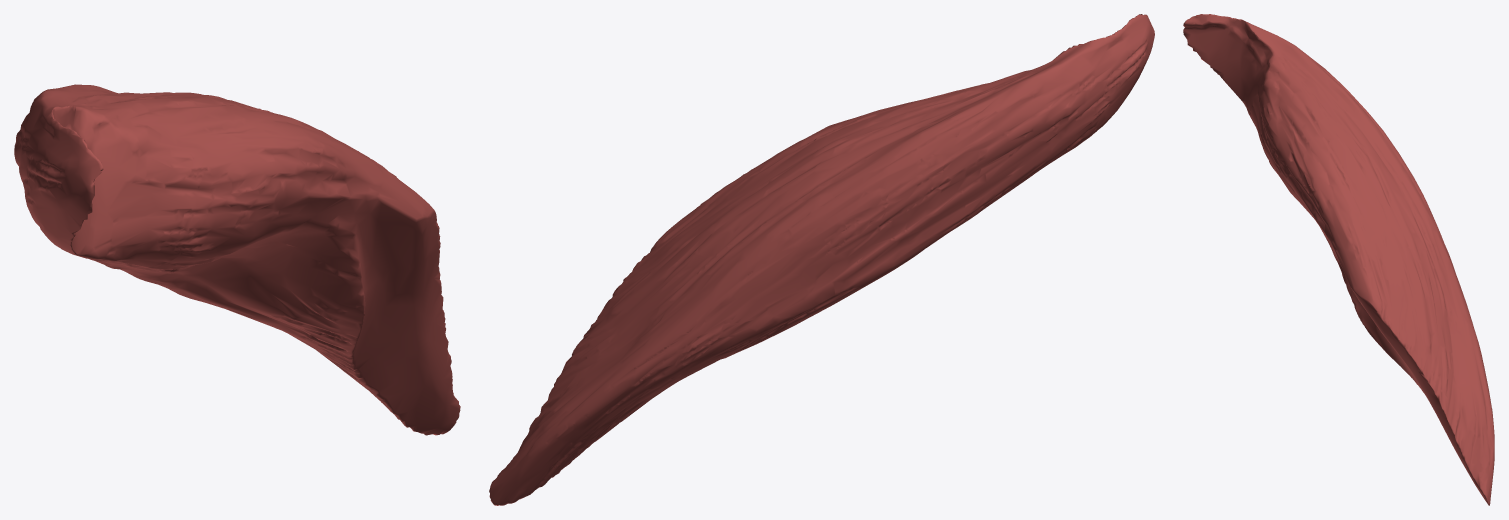
File: FMA32553.glb
3 renders of one model, left to right at view 1: azimuth 30°, elevation 25°; view 2: azimuth 150°, elevation 25°; view 3: azimuth 270°, elevation 25°, orthographic. The views are drawn at different scales.
Visible parts, largest first — view 1: FMA32553; view 2: FMA32553; view 3: FMA32553.
Part boxes in pixels (x1=…): FMA32553: x1=14, y1=84, x2=460, y2=435; FMA32553: x1=489, y1=14, x2=1154, y2=505; FMA32553: x1=1183, y1=14, x2=1494, y2=505.
Bounding box in the file's own units: 0.093 × 0.0867 × 0.0736.
